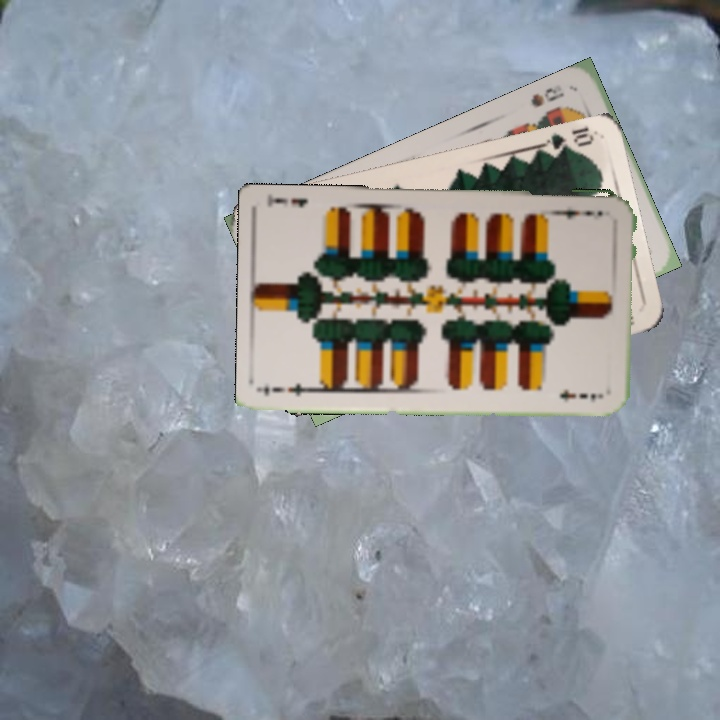E7: (268, 379, 319, 399), (553, 205, 605, 222)
G10: (538, 122, 596, 159)
S8: (527, 83, 567, 110)
